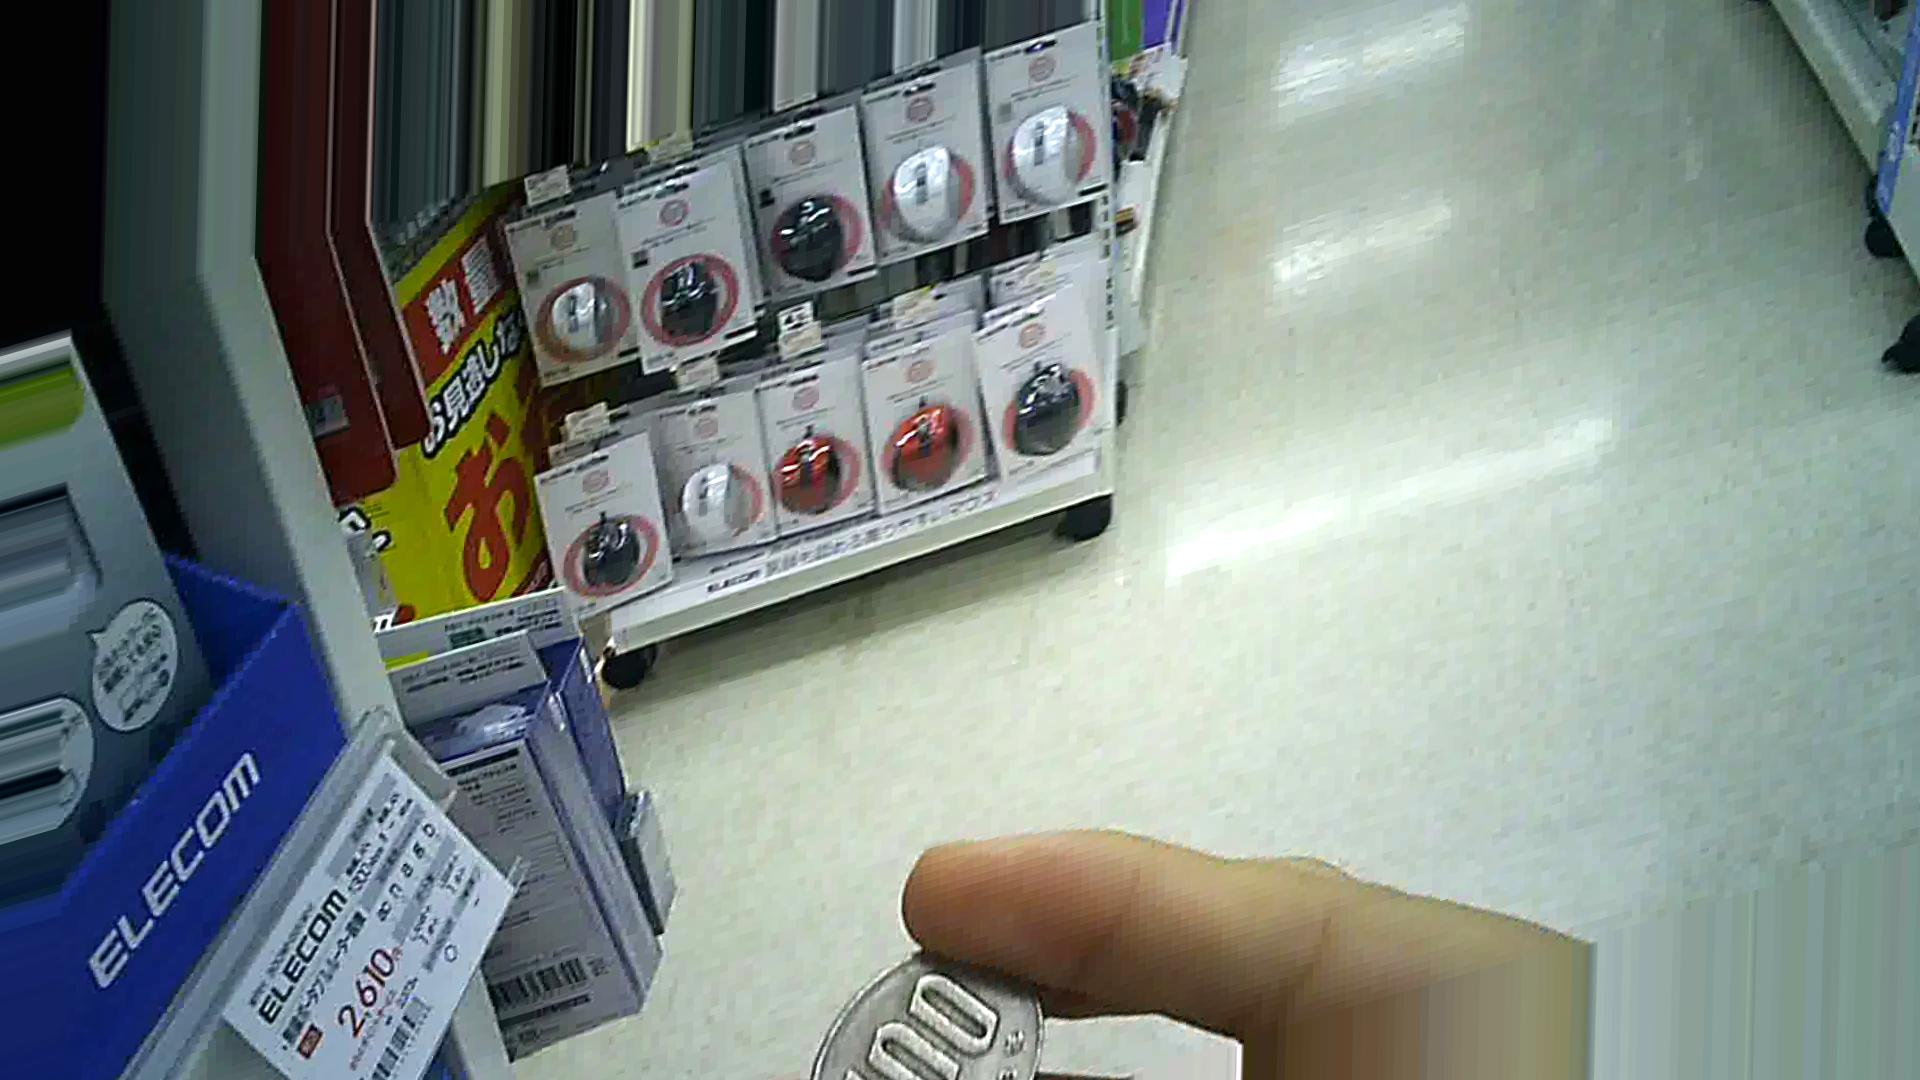100 Yen: (800, 938, 1051, 1079)
